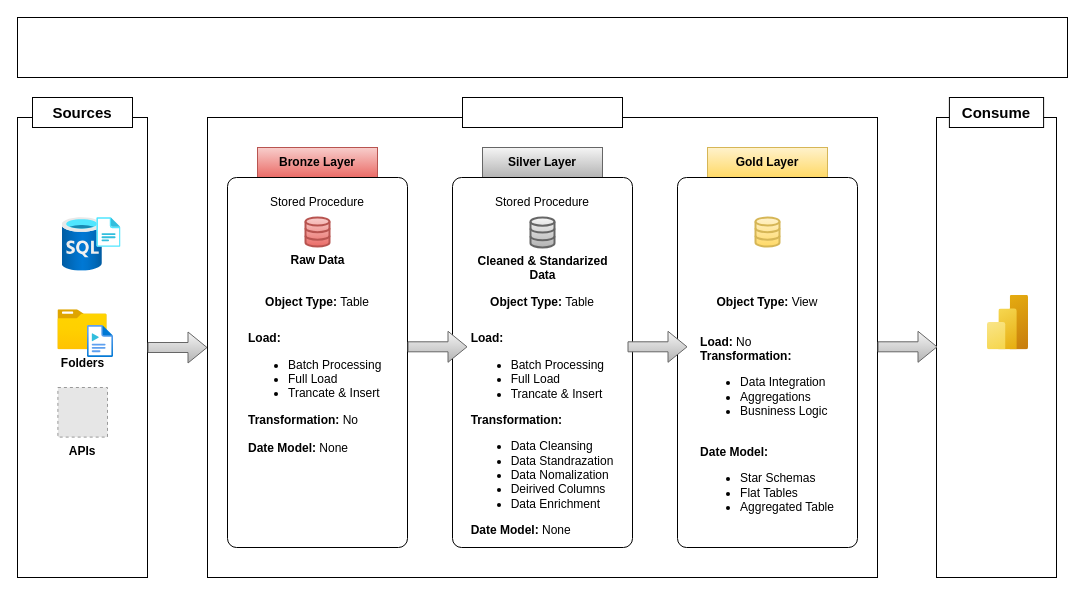
The diagram is 1085 pixels wide and 595 high, and some of its shapes have lost their labels. Grey dashed boxes stand in for pictures. Here are the shapes that lost their labels. From the top down, the centre of each, then its label:
At pixel 542 47: "Data Architecture & Workflow".
At pixel 542 112: "Data Warehouse".
At pixel 91 244: "Database".
At pixel 767 231: "Business Ready Data".
At pixel 1007 322: "Power BI".
